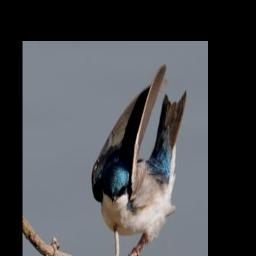Swallow: (91, 61, 188, 256)
